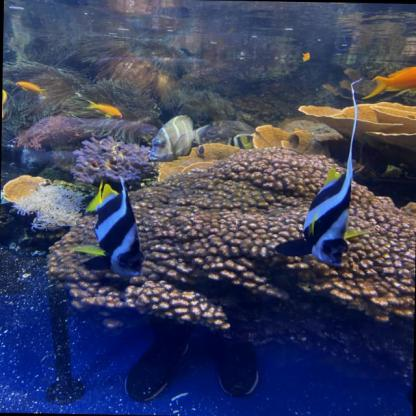fish: (275, 166, 365, 268), (68, 178, 145, 276), (151, 113, 208, 159), (362, 63, 416, 100), (82, 99, 121, 119), (229, 132, 254, 149), (14, 82, 43, 93), (2, 89, 6, 122), (301, 51, 309, 61)
